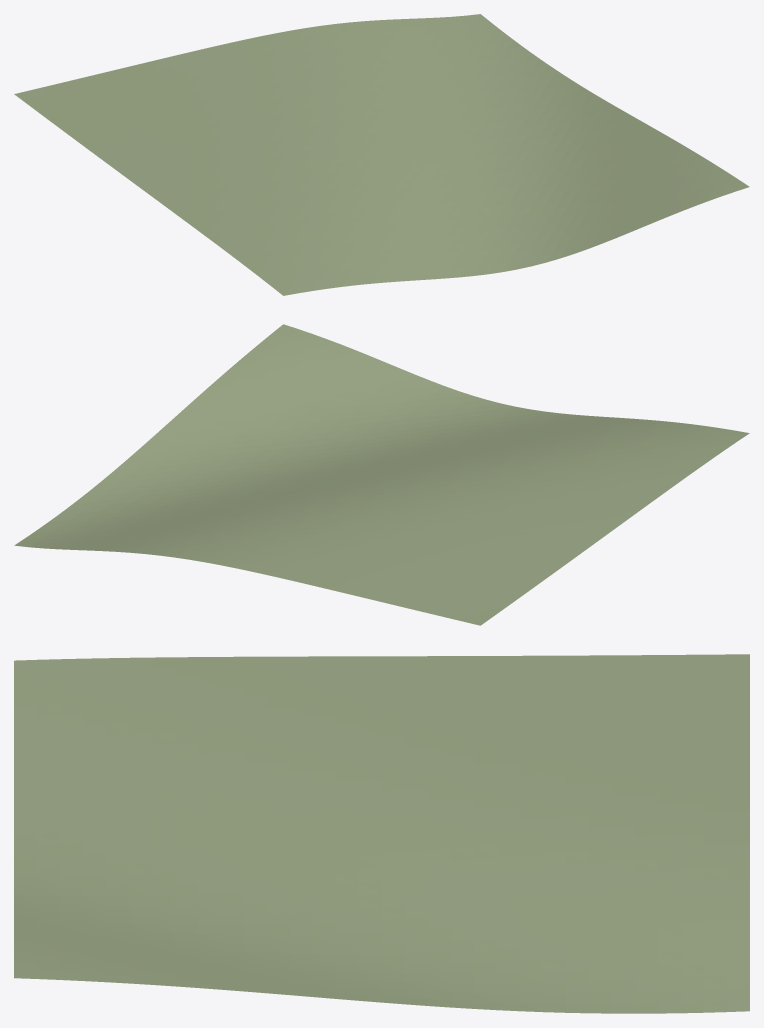
File: desert-13-28.glb
The picture shows the model from 3 angles, top to bottom: view 1: azimuth 30°, elevation 25°; view 2: azimuth 150°, elevation 25°; view 3: azimuth 270°, elevation 25°; orthographic projection. The views are drawn at different scales.
Parts seen in each view (by area): view 1: desert-13-28; view 2: desert-13-28; view 3: desert-13-28.
Part boxes in pixels (box(x1,y1,x2,y2)): desert-13-28: box(14, 14, 749, 295); desert-13-28: box(14, 324, 749, 625); desert-13-28: box(14, 654, 749, 1013).
Size of the model in its own units: 512 by 37.32 by 512.
